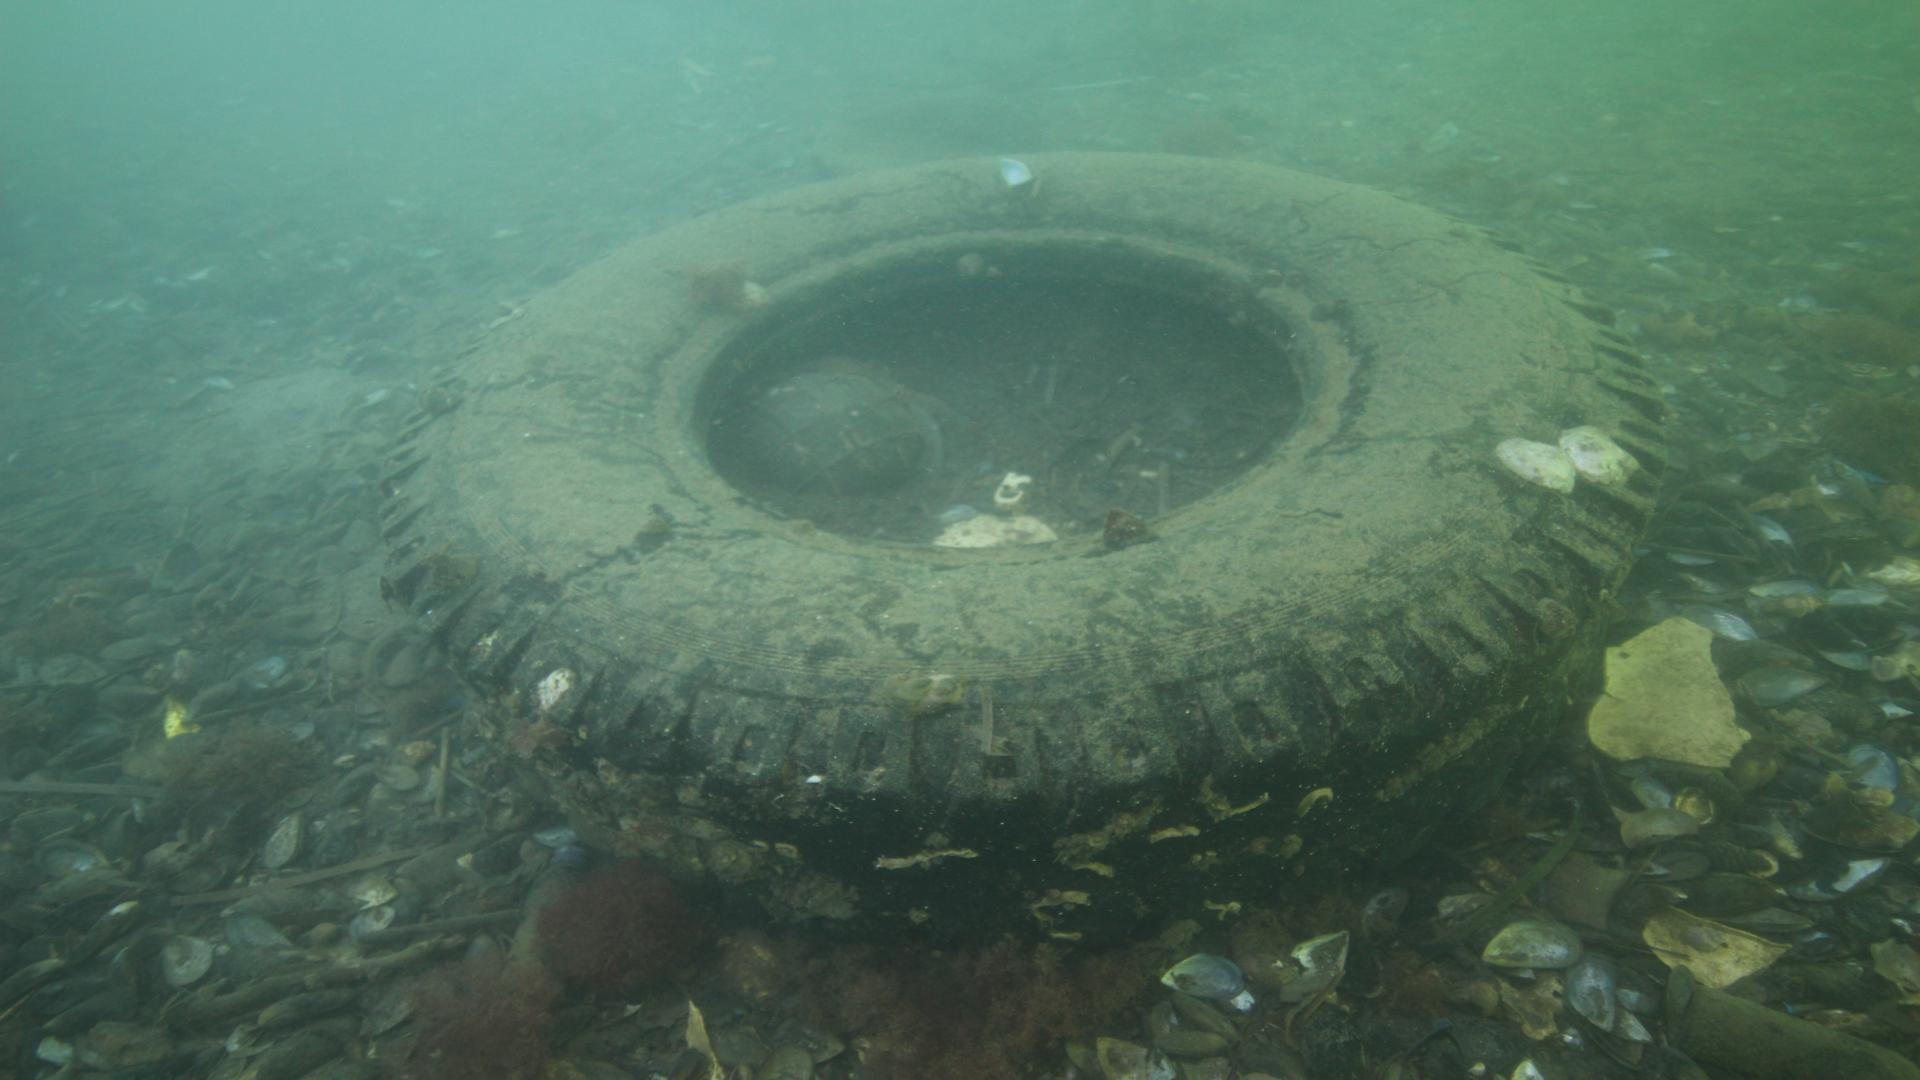tire: (378, 148, 1672, 951)
